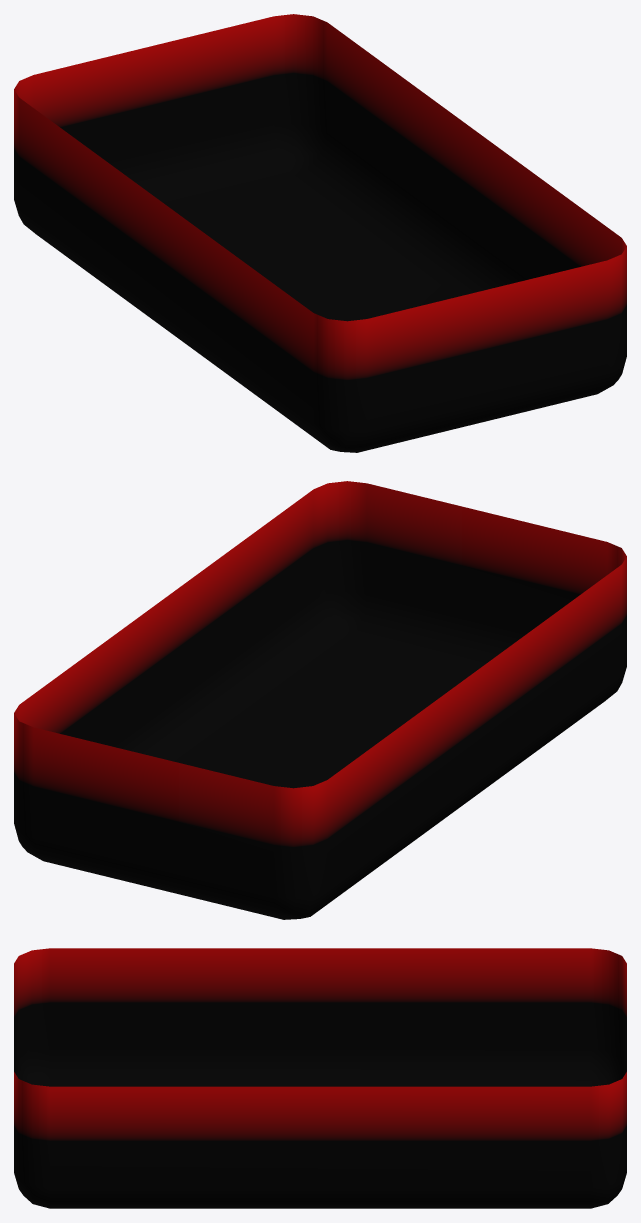
Rendered from SM_Tutorial_box_02.fbx.
The picture shows the model from 3 angles, top to bottom: view 1: azimuth 30°, elevation 25°; view 2: azimuth 150°, elevation 25°; view 3: azimuth 270°, elevation 25°; orthographic projection. The views are drawn at different scales.
Parts seen in each view (by area): view 1: SM_Tutorial_box_02; view 2: SM_Tutorial_box_02; view 3: SM_Tutorial_box_02.
Part boxes in pixels (x1,y1,x2,y2): SM_Tutorial_box_02: [14, 14, 626, 452]; SM_Tutorial_box_02: [14, 481, 626, 919]; SM_Tutorial_box_02: [14, 948, 626, 1208].
Bounding box in the file's own units: 15.16 × 6.85 × 28.4.
